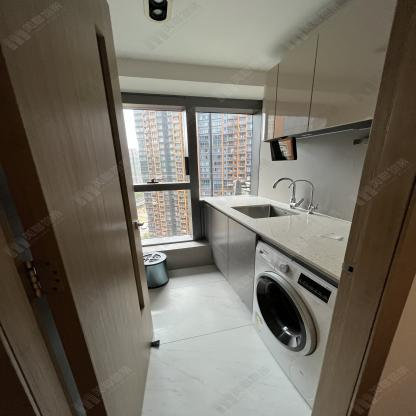Cupboard: (261, 2, 391, 142), (201, 200, 256, 313)
Faucet: (270, 177, 299, 210)
Sink: (229, 202, 307, 222)
Washing Machine: (252, 240, 338, 410)
